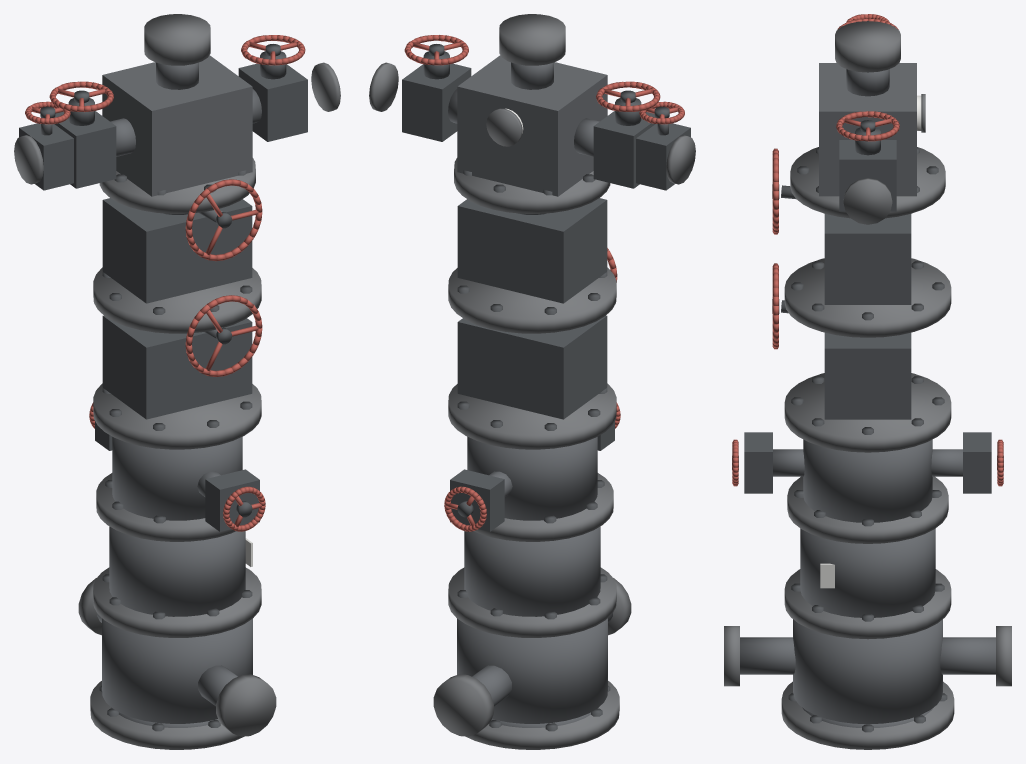
The model's file is christmas_tree_lod0.glb.
3 views of the same model, side by side, from view 1: azimuth 30°, elevation 25°; view 2: azimuth 150°, elevation 25°; view 3: azimuth 270°, elevation 25° (orthographic).
Visible parts, largest first — view 1: ct_static, ct_wheel; view 2: ct_static, ct_wheel; view 3: ct_static, ct_wheel.
Boxes of the visible parts, left/top/right/bottom form: ct_static: left=14, top=14, right=340, bottom=749; ct_wheel: left=25, top=35, right=305, bottom=531; ct_static: left=369, top=14, right=695, bottom=749; ct_wheel: left=404, top=35, right=684, bottom=531; ct_static: left=724, top=21, right=1011, bottom=749; ct_wheel: left=732, top=14, right=1003, bottom=486.
Size of the model in its own units: 1.2 by 2.6 by 1.
